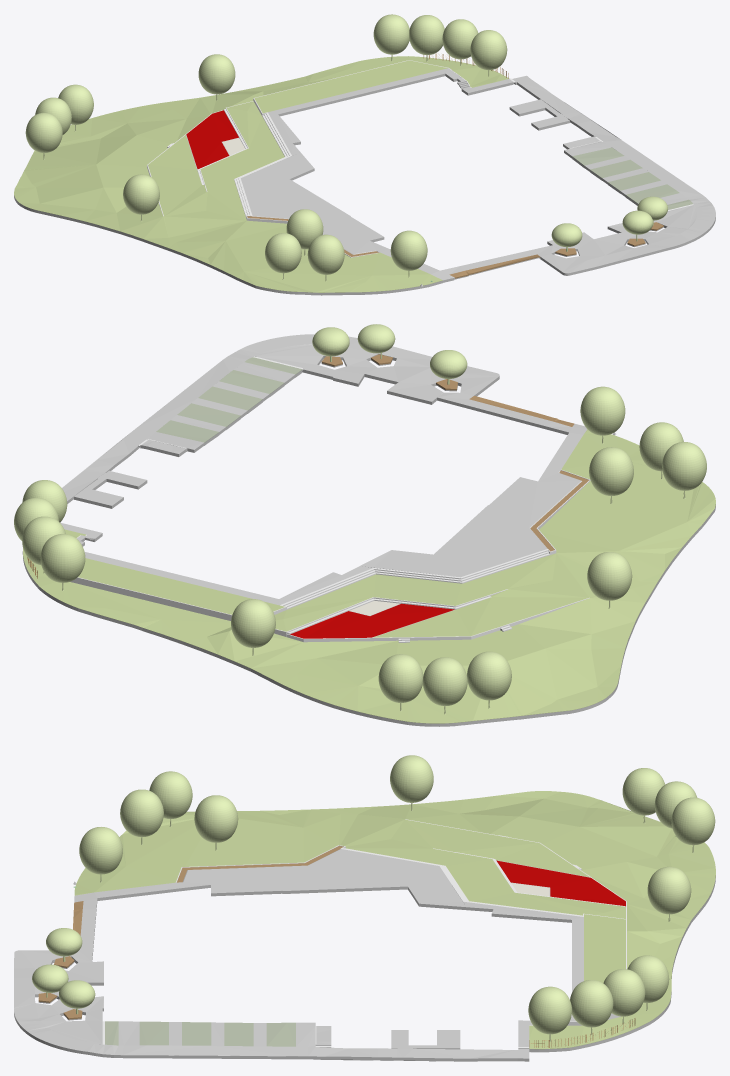
3 renders of one model, top to bottom at view 1: azimuth 30°, elevation 25°; view 2: azimuth 150°, elevation 25°; view 3: azimuth 270°, elevation 25°, orthographic. The views are drawn at different scales.
Parts seen in each view (by area): view 1: 2XactkFYyHxOjPh7InYTnh, 3VKKbJ67mHxOjLh7InYTnh, 1FLzjp7NWHxOjNh7InYTnh, 0BodHC4lqHxOjJh7InYTnh, 0OE4N$F_aHxOjPh7InYTnh, 1FLzkB7NWHxOjNh7InYTnh, 1FLzk57NWHxOjNh7InYTnh, 1FLzjv7NWHxOjNh7InYTnh, 2XjCE$IKSHxOjQh7InYTnh, 3i9BMqG2aHxOjPh7InYTnh, 3i9BMrG2aHxOjPh7InYTnh, 2uwvFIGA0HxOjPh7InYTnh (+19 smaller); view 2: 2XactkFYyHxOjPh7InYTnh, 3VKKbJ67mHxOjLh7InYTnh, 1FLzjp7NWHxOjNh7InYTnh, 0BodHC4lqHxOjJh7InYTnh, 0OE4N$F_aHxOjPh7InYTnh, 1FLzk57NWHxOjNh7InYTnh, 1FLzkB7NWHxOjNh7InYTnh, 2XjCE$IKSHxOjQh7InYTnh, 1FLzjv7NWHxOjNh7InYTnh, 3i9BMmG2aHxOjPh7InYTnh, 3i9BMrG2aHxOjPh7InYTnh, 3i9BMsG2aHxOjPh7InYTnh (+20 smaller); view 3: 2XactkFYyHxOjPh7InYTnh, 3VKKbJ67mHxOjLh7InYTnh, 1FLzjp7NWHxOjNh7InYTnh, 0OE4N$F_aHxOjPh7InYTnh, 0BodHC4lqHxOjJh7InYTnh, 1FLzk57NWHxOjNh7InYTnh, 1FLzkB7NWHxOjNh7InYTnh, 2XjCE$IKSHxOjQh7InYTnh, 1FLzjv7NWHxOjNh7InYTnh, 2uwvFHGA0HxOjPh7InYTnh, 3i9BMqG2aHxOjPh7InYTnh, 2uwvFJGA0HxOjPh7InYTnh (+21 smaller).
Boxes of the visible parts, bbox=[...] form: 2XactkFYyHxOjPh7InYTnh: bbox=[14, 56, 508, 237]; 3VKKbJ67mHxOjLh7InYTnh: bbox=[132, 101, 442, 295]; 1FLzjp7NWHxOjNh7InYTnh: bbox=[241, 152, 558, 282]; 0BodHC4lqHxOjJh7InYTnh: bbox=[540, 205, 697, 275]; 0OE4N$F_aHxOjPh7InYTnh: bbox=[512, 75, 715, 242]; 1FLzkB7NWHxOjNh7InYTnh: bbox=[254, 60, 447, 113]; 1FLzk57NWHxOjNh7InYTnh: bbox=[148, 135, 206, 216]; 1FLzjv7NWHxOjNh7InYTnh: bbox=[268, 68, 464, 155]; 2XjCE$IKSHxOjQh7InYTnh: bbox=[186, 110, 238, 168]; 3i9BMqG2aHxOjPh7InYTnh: bbox=[198, 54, 235, 100]; 3i9BMrG2aHxOjPh7InYTnh: bbox=[25, 112, 62, 159]; 2uwvFIGA0HxOjPh7InYTnh: bbox=[390, 230, 427, 277]; 2XactkFYyHxOjPh7InYTnh: bbox=[22, 529, 640, 726]; 3VKKbJ67mHxOjLh7InYTnh: bbox=[274, 429, 715, 631]; 1FLzjp7NWHxOjNh7InYTnh: bbox=[360, 392, 586, 577]; 0BodHC4lqHxOjJh7InYTnh: bbox=[255, 336, 499, 404]; 0OE4N$F_aHxOjPh7InYTnh: bbox=[62, 334, 314, 503]; 1FLzk57NWHxOjNh7InYTnh: bbox=[373, 589, 588, 637]; 1FLzkB7NWHxOjNh7InYTnh: bbox=[78, 558, 284, 614]; 2XjCE$IKSHxOjQh7InYTnh: bbox=[290, 603, 454, 638]; 1FLzjv7NWHxOjNh7InYTnh: bbox=[77, 536, 373, 604]; 3i9BMmG2aHxOjPh7InYTnh: bbox=[40, 534, 85, 590]; 3i9BMrG2aHxOjPh7InYTnh: bbox=[467, 651, 511, 708]; 3i9BMsG2aHxOjPh7InYTnh: bbox=[422, 657, 467, 714]; 2XactkFYyHxOjPh7InYTnh: bbox=[394, 791, 715, 1052]; 3VKKbJ67mHxOjLh7InYTnh: bbox=[74, 805, 625, 918]; 1FLzjp7NWHxOjNh7InYTnh: bbox=[71, 849, 466, 963]; 0OE4N$F_aHxOjPh7InYTnh: bbox=[17, 1021, 529, 1061]; 0BodHC4lqHxOjJh7InYTnh: bbox=[14, 950, 103, 1044]; 1FLzk57NWHxOjNh7InYTnh: bbox=[405, 819, 589, 877]; 1FLzkB7NWHxOjNh7InYTnh: bbox=[584, 914, 625, 982]; 2XjCE$IKSHxOjQh7InYTnh: bbox=[496, 860, 625, 906]; 1FLzjv7NWHxOjNh7InYTnh: bbox=[463, 901, 582, 1021]; 2uwvFHGA0HxOjPh7InYTnh: bbox=[120, 789, 163, 844]; 3i9BMqG2aHxOjPh7InYTnh: bbox=[647, 866, 691, 921]; 2uwvFJGA0HxOjPh7InYTnh: bbox=[194, 795, 238, 850].
Bounding box in the file's own units: 93.62 × 12.17 × 96.21.
